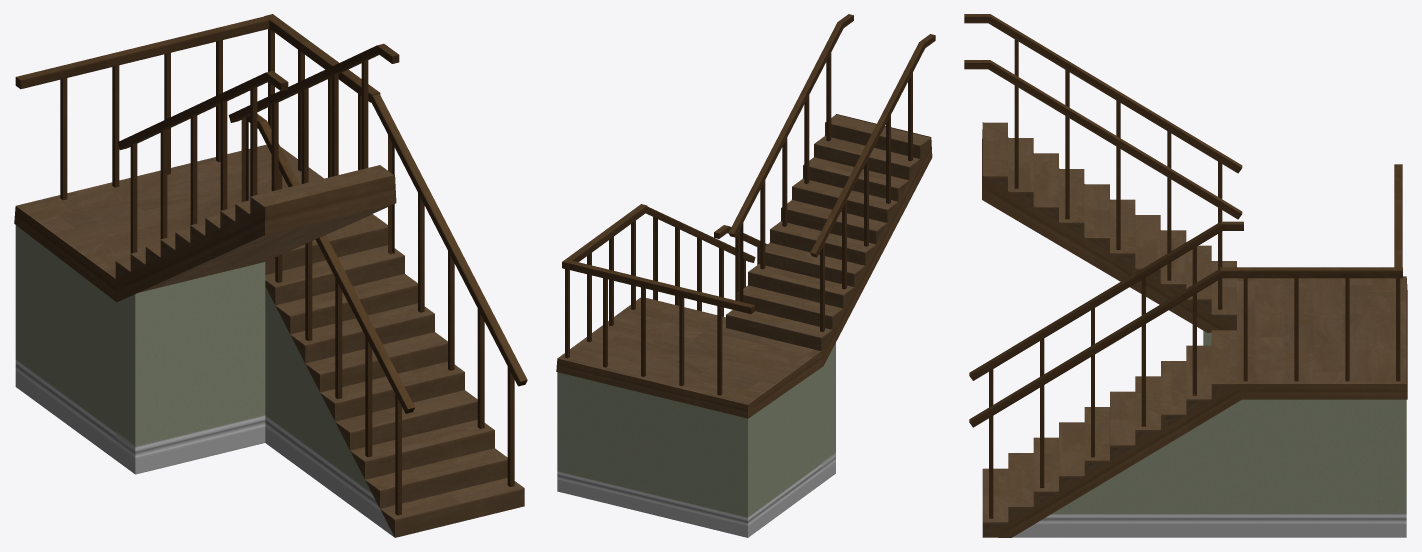
The model's file is stairs2.fbx.
3 views of the same model, side by side, from view 1: azimuth 30°, elevation 25°; view 2: azimuth 150°, elevation 25°; view 3: azimuth 270°, elevation 25° (orthographic). The views are drawn at different scales.
Parts seen in each view (by area): view 1: stairs_short_right; view 2: stairs_short_right; view 3: stairs_short_right.
Part boxes in pixels (<box>): stairs_short_right: <box>14,14,527,537</box>; stairs_short_right: <box>556,14,935,537</box>; stairs_short_right: <box>964,14,1407,537</box>.
Bounding box in the file's own units: 303 × 544 × 523.
